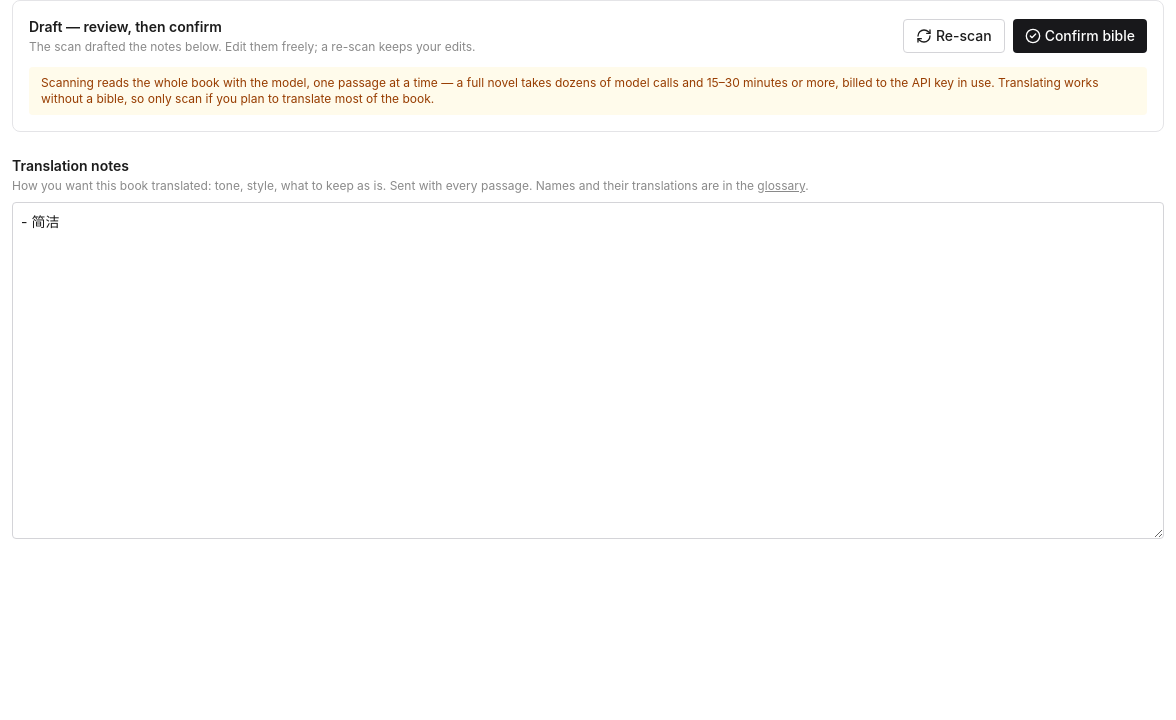
it: BibleReview › confirms a draft bible
Click the button "Confirm bible": click(1080, 36) [1013, 19, 1147, 53]
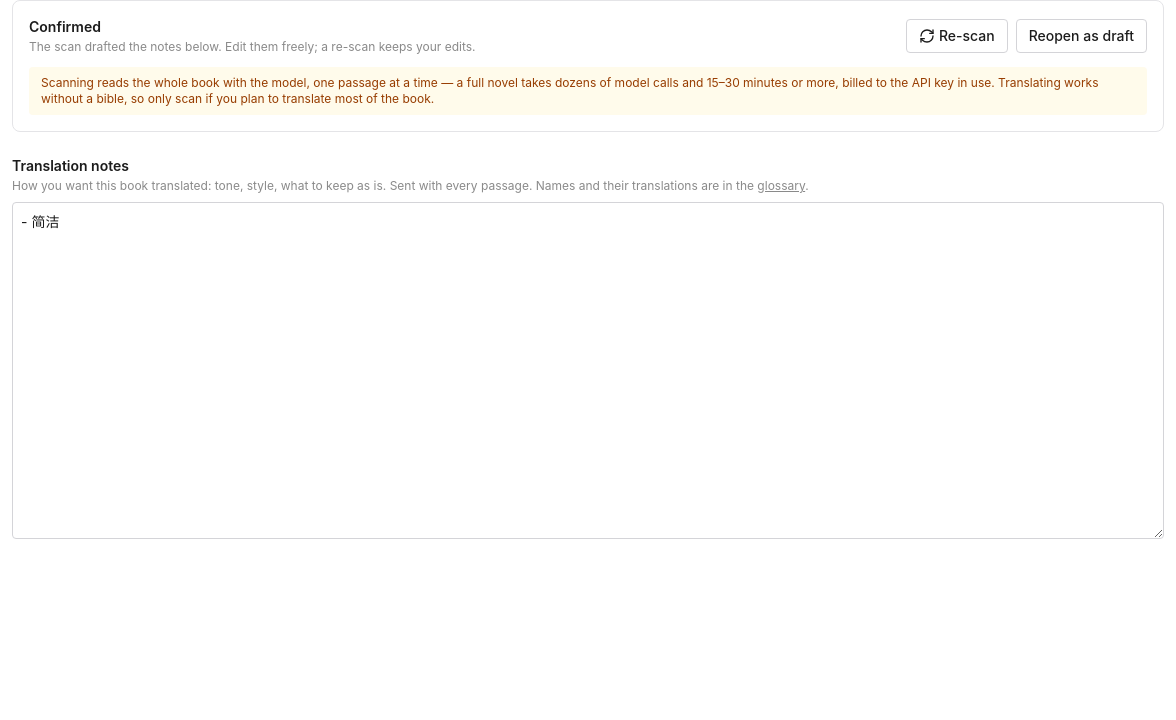
Result: the text "Confirmed" is shown at [29, 18, 101, 35]
